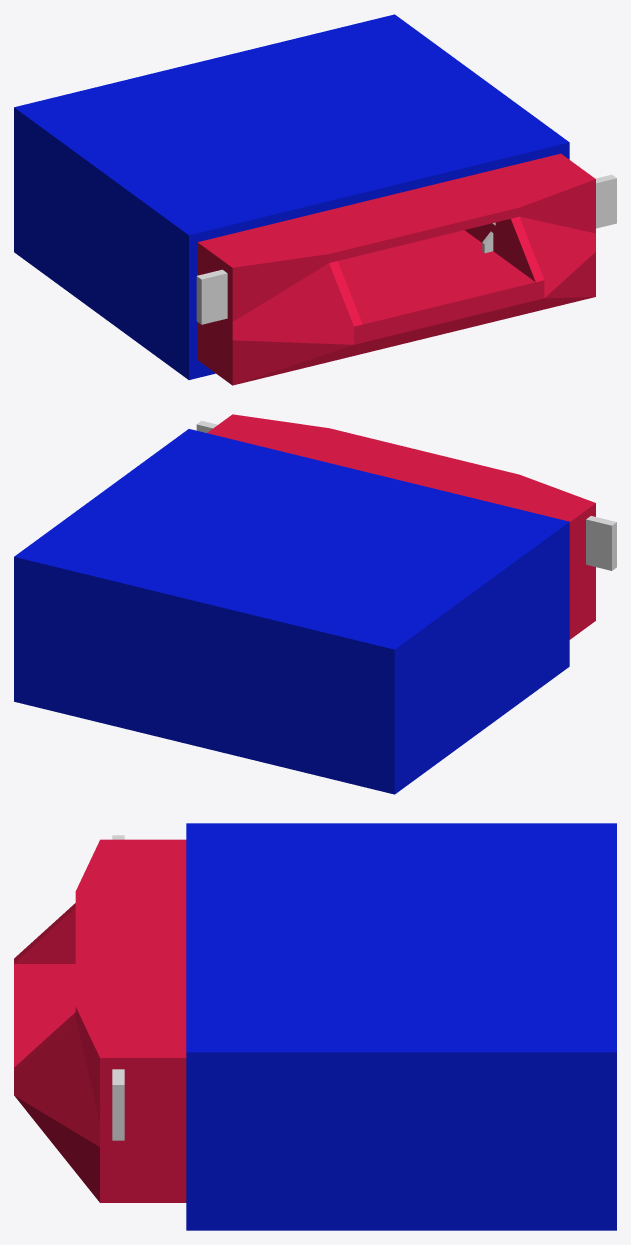
The model's file is airlock.gltf.
3 views of the same model, one above another, from view 1: azimuth 30°, elevation 25°; view 2: azimuth 150°, elevation 25°; view 3: azimuth 270°, elevation 25° (orthographic). The views are drawn at different scales.
Visible parts, largest first — view 1: Room, Enterance, Door-Left, Door-Right; view 2: Room, Enterance, Door-Left; view 3: Room, Enterance, Door-Right.
Part boxes in pixels (bbox=[...]): Room: bbox=[14, 14, 569, 379]; Enterance: bbox=[197, 153, 595, 385]; Door-Left: bbox=[196, 269, 227, 324]; Door-Right: bbox=[482, 174, 616, 253]; Room: bbox=[14, 429, 569, 794]; Enterance: bbox=[207, 414, 595, 639]; Door-Left: bbox=[586, 516, 616, 570]; Room: bbox=[186, 823, 616, 1230]; Enterance: bbox=[14, 839, 186, 1202]; Door-Right: bbox=[112, 1069, 124, 1140].
Size of the model in its own units: 48 by 16 by 49.
